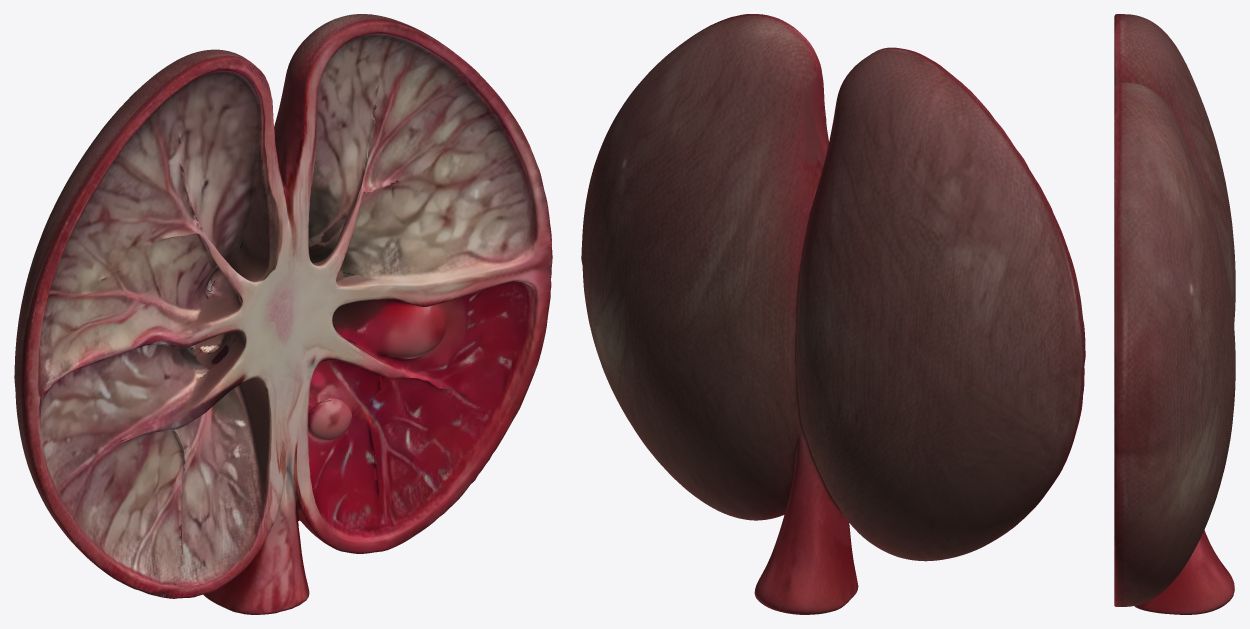
File: vet_v2_path_tumor-spleen.glb
The picture shows the model from 3 angles, left to right: view 1: azimuth 30°, elevation 25°; view 2: azimuth 150°, elevation 25°; view 3: azimuth 270°, elevation 25°; orthographic projection. The views are drawn at different scales.
Parts seen in each view (by area): view 1: model; view 2: model; view 3: model.
Boxes of the visible parts, x1,y1,x2,y2 form: model: (14, 14, 552, 614); model: (581, 14, 1085, 614); model: (1114, 14, 1235, 614).
Bounding box in the file's own units: 1.82 × 1.9 × 0.3856.
1 material, 1 textured.
